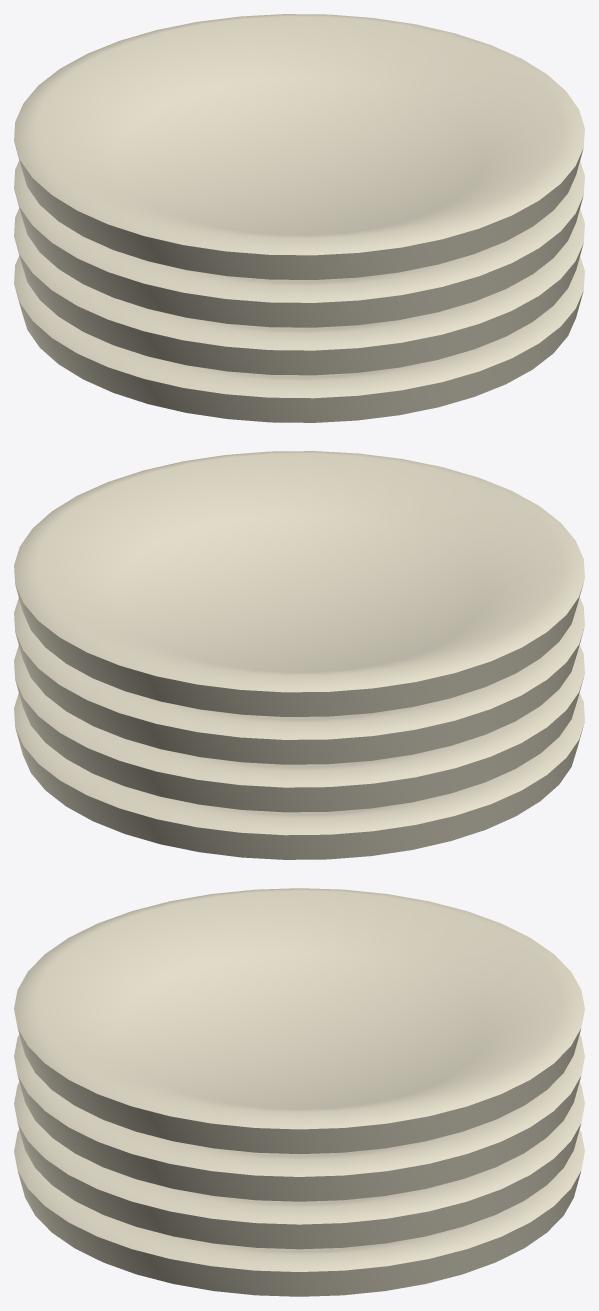
The model's file is royal-court-and-throne-palace-stacked-dinner-plates-a79ee0dc__29411.glb.
The picture shows the model from 3 angles, top to bottom: view 1: azimuth 30°, elevation 25°; view 2: azimuth 150°, elevation 25°; view 3: azimuth 270°, elevation 25°; orthographic projection.
Parts seen in each view (by area): view 1: stacked-dinner-plates; view 2: stacked-dinner-plates; view 3: stacked-dinner-plates.
Boxes of the visible parts, left/top/right/bottom form: stacked-dinner-plates: left=14, top=14, right=584, bottom=422; stacked-dinner-plates: left=14, top=451, right=584, bottom=859; stacked-dinner-plates: left=14, top=888, right=584, bottom=1296.
Bounding box in the file's own units: 0.37 × 0.142 × 0.37.
